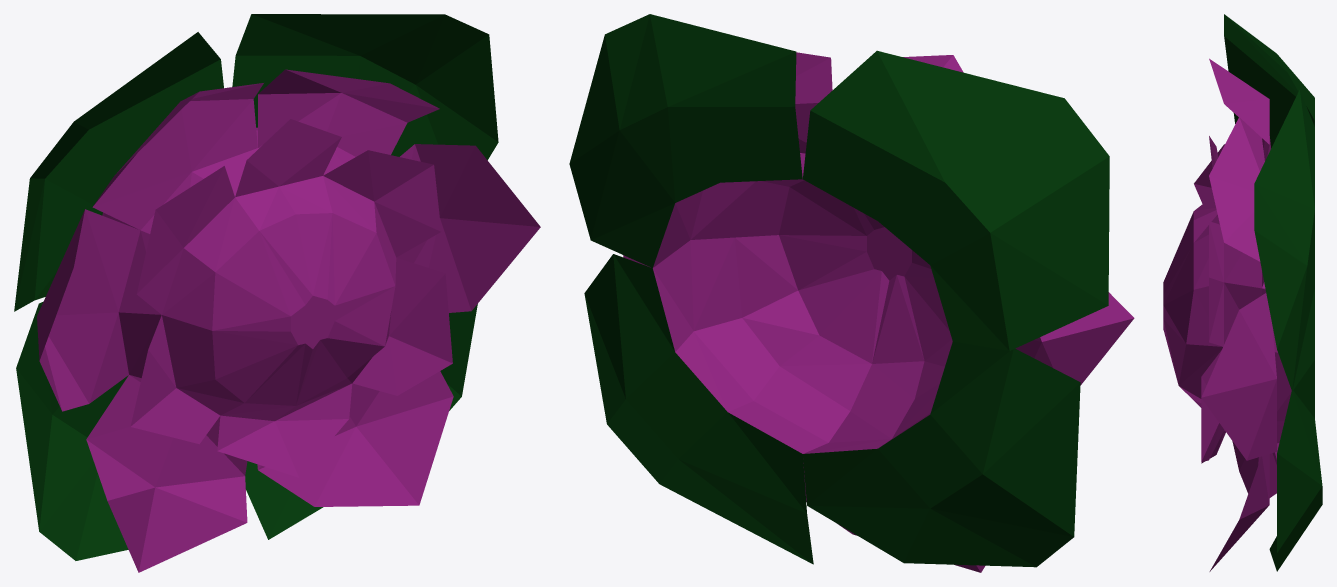
The model's file is redcabbage.obj.
3 renders of one model, left to right at view 1: azimuth 30°, elevation 25°; view 2: azimuth 150°, elevation 25°; view 3: azimuth 270°, elevation 25°, orthographic. The views are drawn at different scales.
Parts seen in each view (by area): view 1: redcabbage; view 2: redcabbage; view 3: redcabbage.
Part boxes in pixels (<box>): redcabbage: <box>14,14,540,572</box>; redcabbage: <box>569,14,1134,572</box>; redcabbage: <box>1163,14,1322,571</box>.
Bounding box in the file's own units: 0.69 × 0.68 × 0.21.
